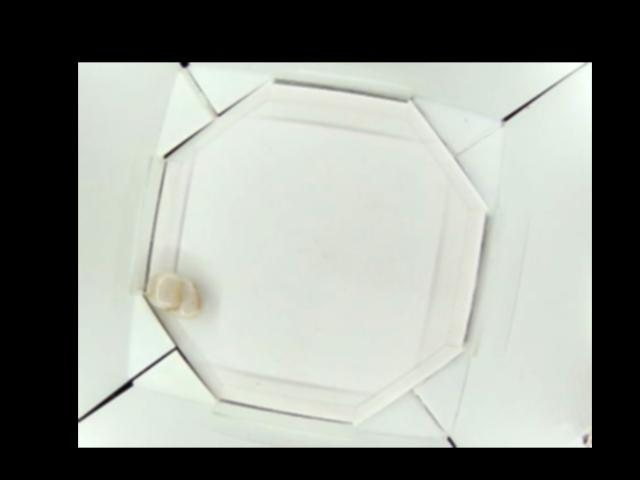Pebble: (153, 275, 199, 316)
